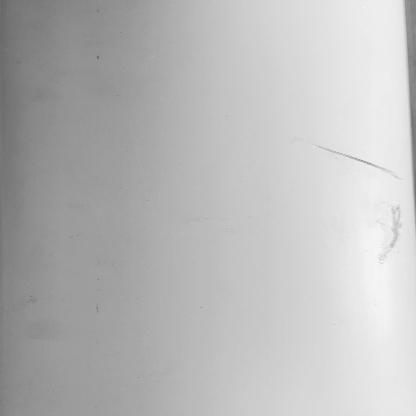sunshang: (306, 141, 403, 179), (375, 198, 406, 263)
